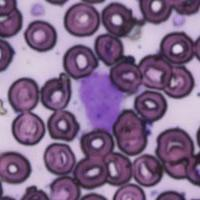M: (76, 68, 127, 132)
